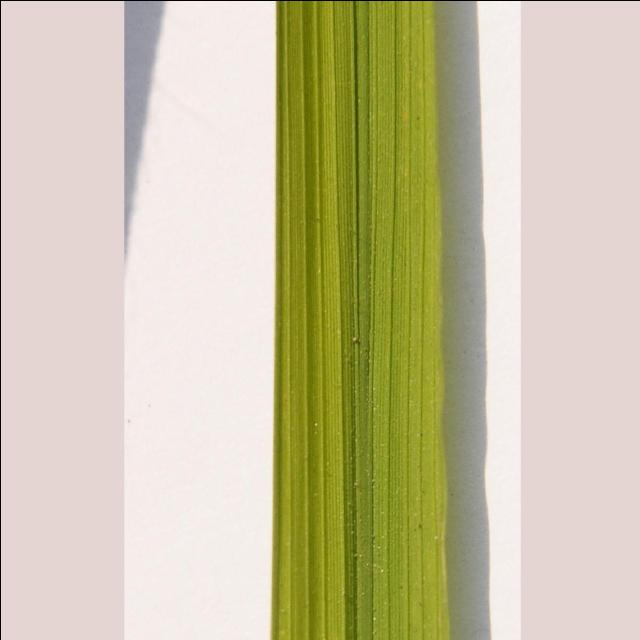Bacterial leaf blight: (206, 0, 477, 640)
